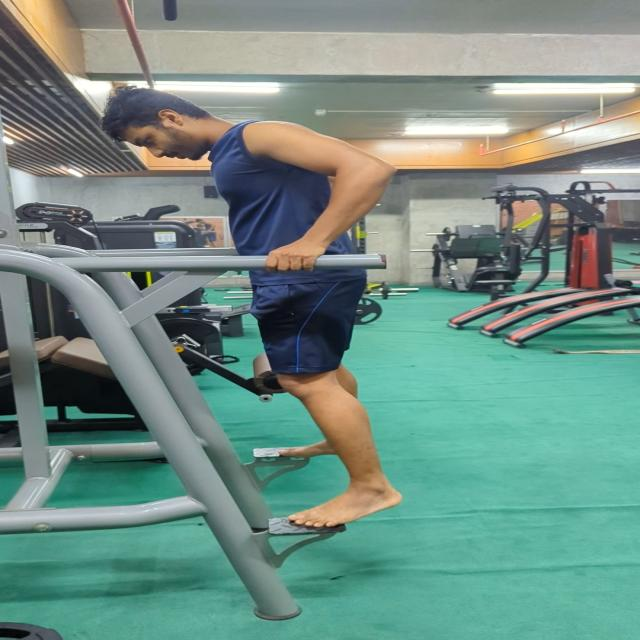Normal_Dips: (86, 80, 403, 535)
